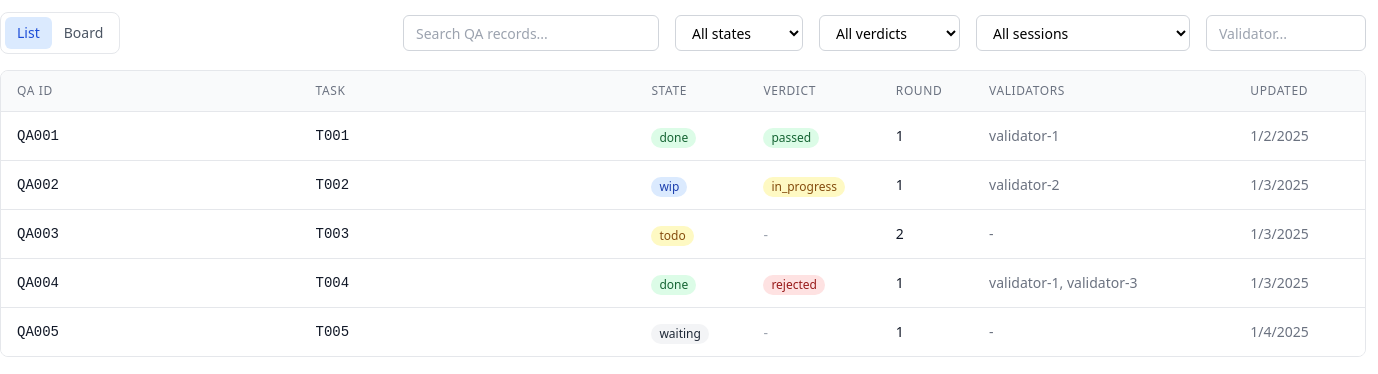
QAView › Filters › filters QA records by verdict
Select "Passed" in the dropdown named "verdict" at (890, 33), box [819,15,960,51]
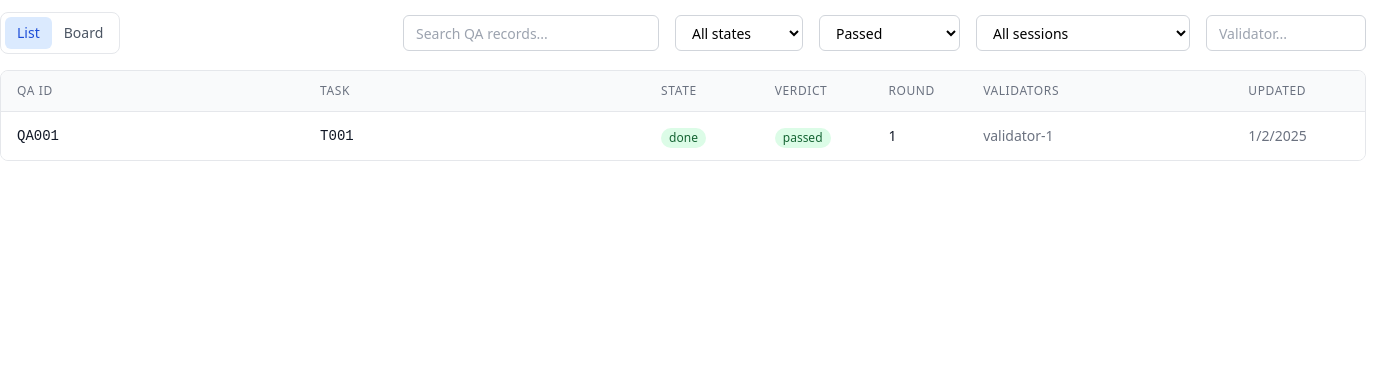
Check: the text "QA001" is shown, box [17,128,59,144]
Check: the text "QA004" is gone
